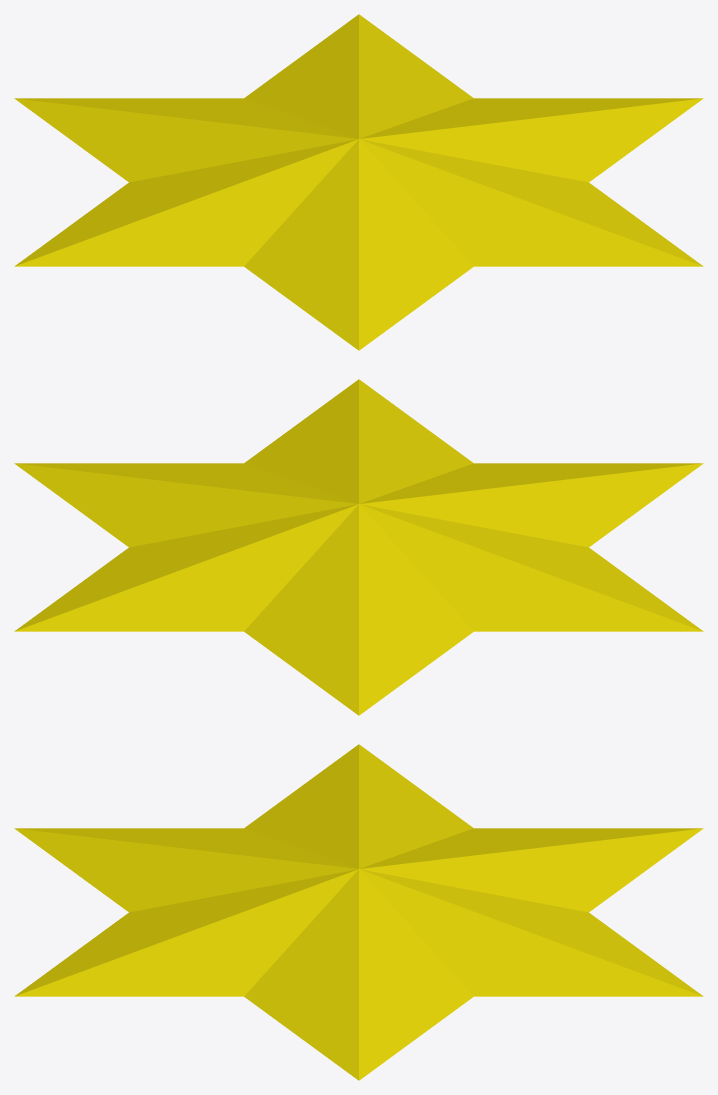
Rendered from gold_star.glb.
The picture shows the model from 3 angles, top to bottom: view 1: azimuth 30°, elevation 25°; view 2: azimuth 150°, elevation 25°; view 3: azimuth 270°, elevation 25°; orthographic projection.
Visible parts, largest first — view 1: pCylinder4; view 2: pCylinder4; view 3: pCylinder4.
Boxes of the visible parts, x1,y1,x2,y2 form: pCylinder4: (14,14,703,350); pCylinder4: (14,379,703,715); pCylinder4: (14,744,703,1080).
Bounding box in the file's own units: 0.2386 × 0.0287 × 0.2066.
